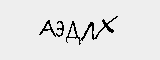А: (37, 19, 56, 39)
Д: (65, 19, 80, 44)
Л: (82, 19, 97, 43)
Х: (95, 16, 117, 37)
Э: (55, 17, 66, 39)
